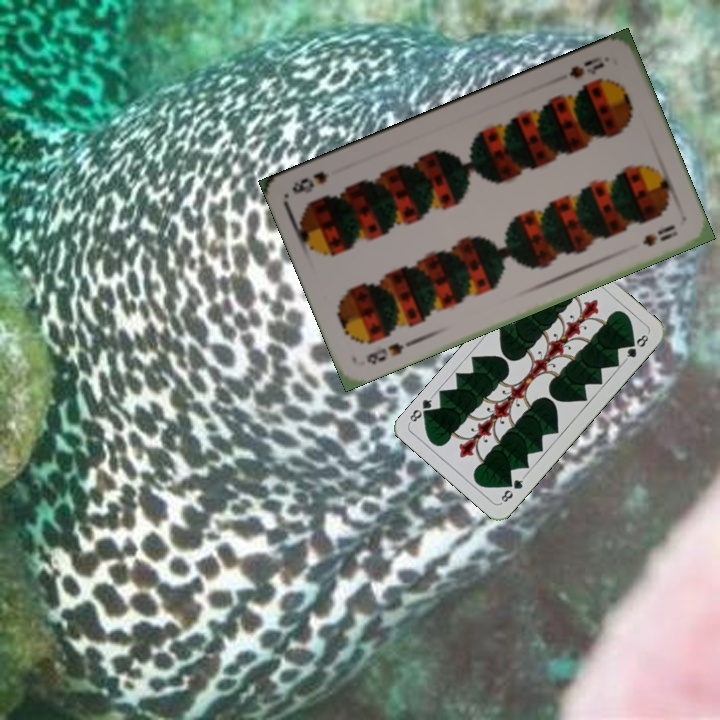G8: (497, 472, 527, 506)
S8: (362, 338, 406, 368), (565, 52, 607, 81)
